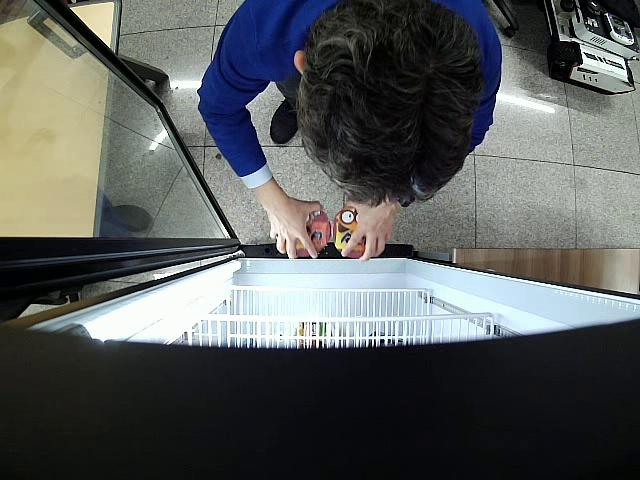00_hand: (267, 197, 323, 259), (342, 202, 394, 262)
05_nuguri_L: (276, 211, 333, 258), (333, 210, 366, 258)
